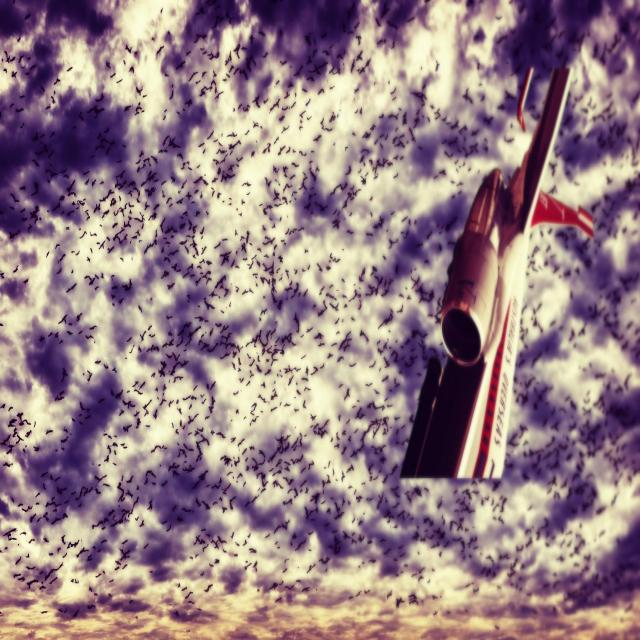airplane: (399, 63, 594, 482)
